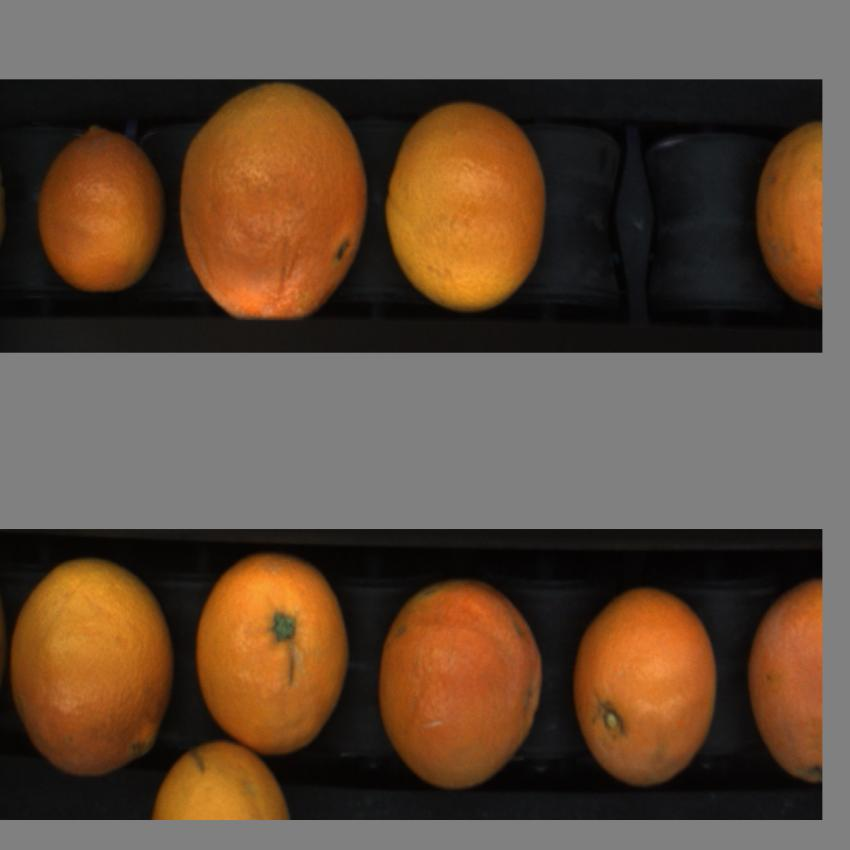Buen estado: (176, 93, 367, 326), (370, 567, 551, 793), (9, 550, 170, 778), (384, 101, 548, 321), (565, 583, 725, 789), (194, 552, 348, 759), (36, 120, 164, 294), (752, 108, 821, 314), (155, 736, 290, 826)
Mal estado: (740, 581, 822, 781)
